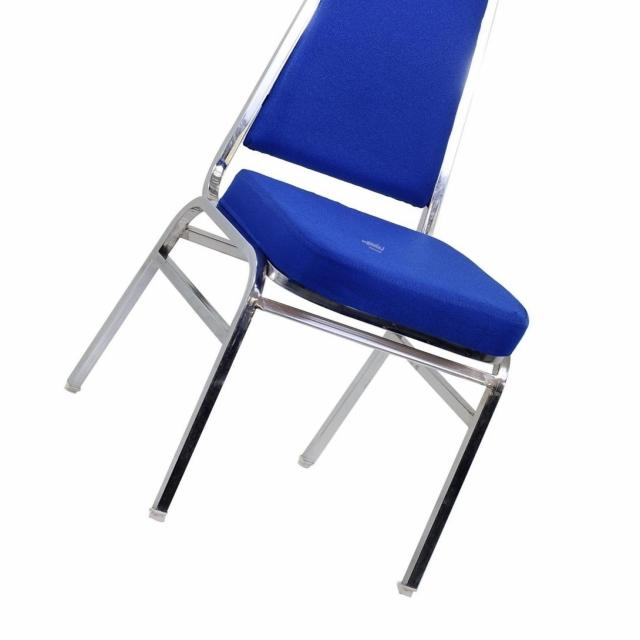Chair: (58, 0, 541, 598)
